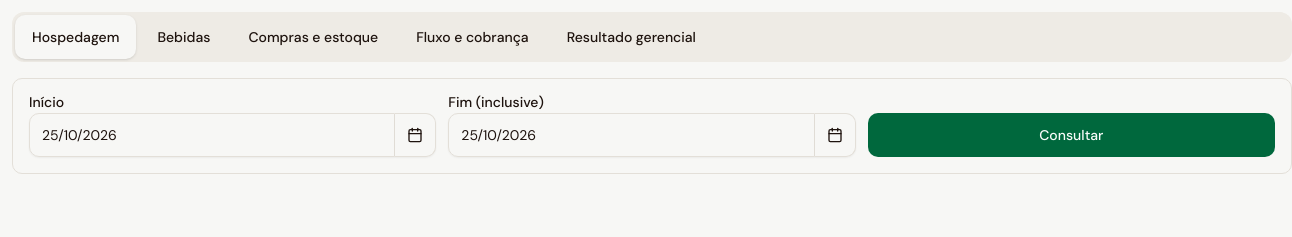
Test: Sprint 5 — relatórios utilizáveis › erro não perde datas e não afirma que relatório foi carregado
The width and height of the screenshot is (1292, 237).
Replace the text in the field labelled "Início" with "01/01/2026" at (212, 135), box x1=29 y1=113 x2=395 y2=157
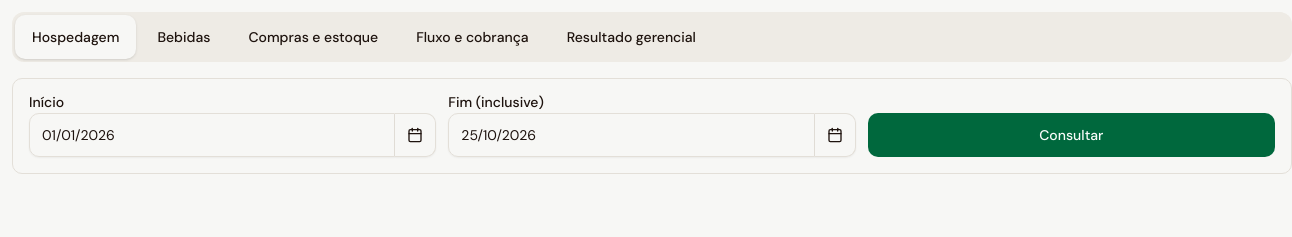
Replace the text in the field labelled "Fim (inclusive)" with "01/01/2026" at (631, 135), box x1=448 y1=113 x2=815 y2=157
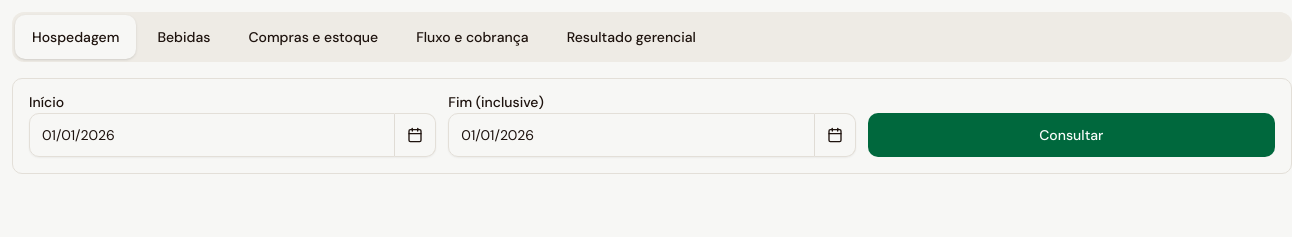
Submit the text "Consultar", box x1=12 y1=78 x2=1291 y2=174
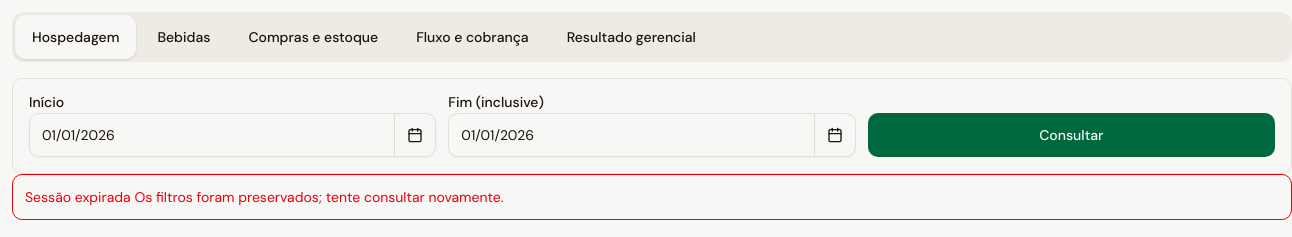
Expected: the message shows "Sessão expirada", x1=25 y1=188 x2=131 y2=206
